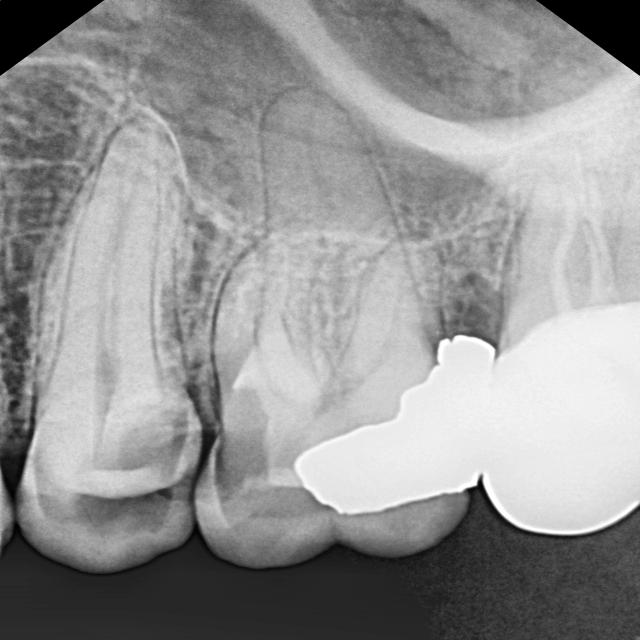Caries: (98, 405, 218, 550), (194, 375, 292, 537), (0, 460, 84, 567)
Crown: (467, 285, 640, 547)
Overhang: (287, 324, 501, 526)
RCT: (505, 87, 640, 341)
